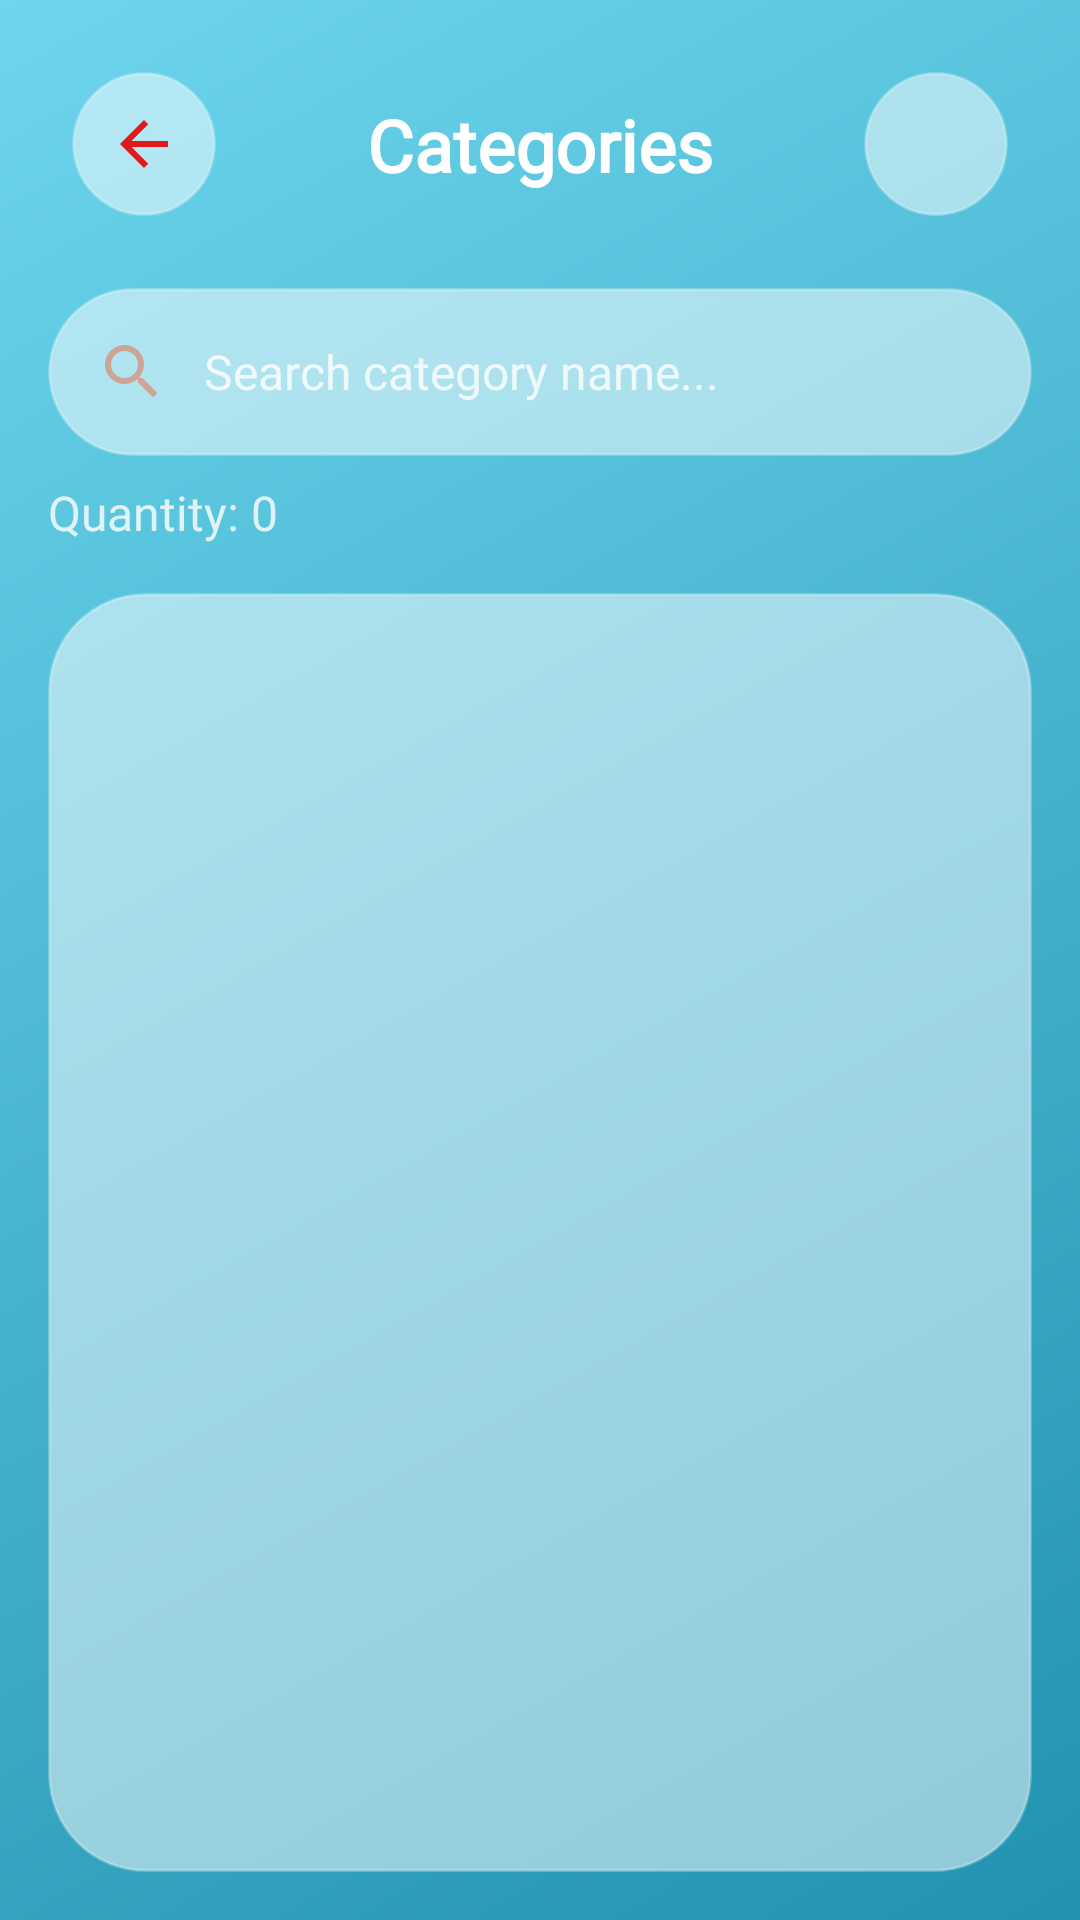

Locate icon controls on the screen. Image size 1080px×1920px, boxes as [x1,y1,x2,y2].
arrow back: [72,72,216,216]
